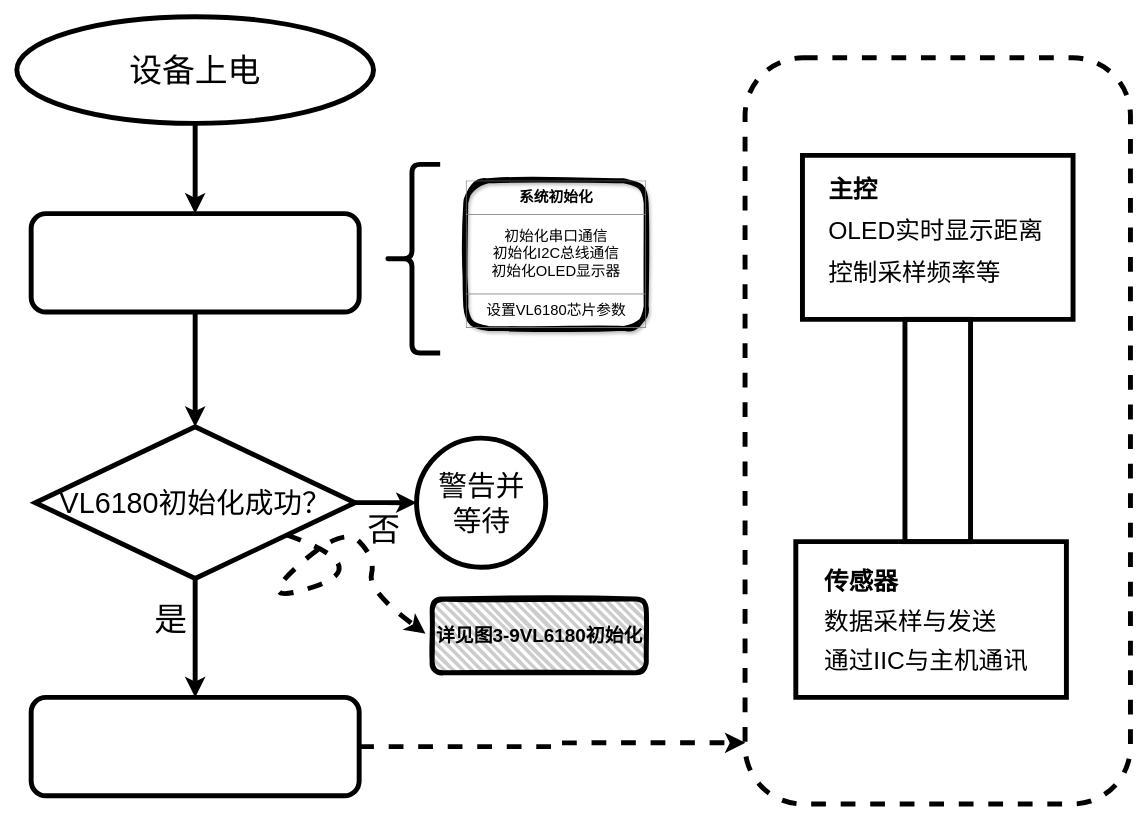
The diagram is 1147 pixels wide and 820 high, and some of its shapes have lost their labels. Here are the shapes that lost their labels. From the top down, the centre of each, then its label:
At (194,262): "系统初始化".
At (937,430): "校验机制等".
At (194,746): "执行主程序".
